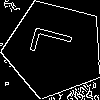L: (29, 24, 83, 63)
